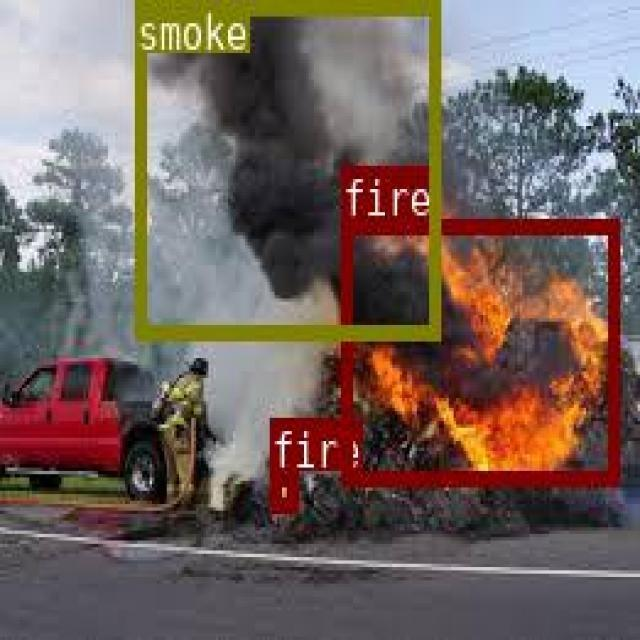fire: (340, 217, 616, 483), (270, 470, 296, 509)
smoke: (134, 0, 438, 338)
